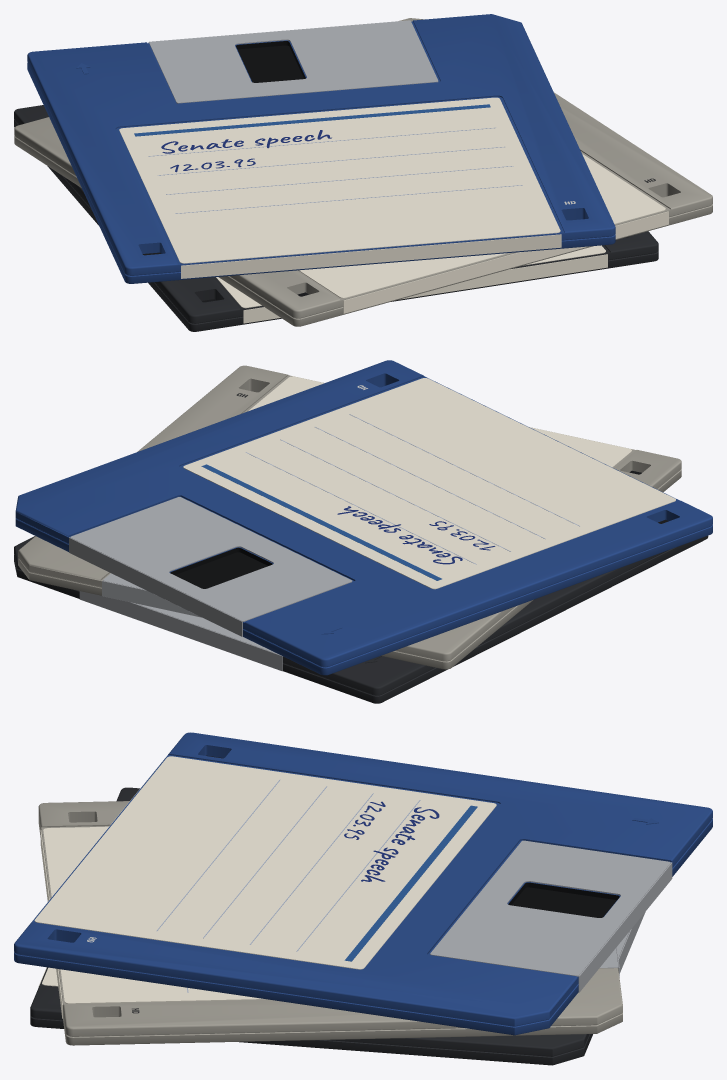
3 renders of one model, top to bottom at view 1: azimuth 30°, elevation 25°; view 2: azimuth 150°, elevation 25°; view 3: azimuth 270°, elevation 25°, orthographic. The views are drawn at different scales.
Visible parts, largest first — view 1: gear_floppies; view 2: gear_floppies; view 3: gear_floppies.
Boxes of the visible parts, bbox=[...] form: gear_floppies: bbox=[14, 14, 712, 331]; gear_floppies: bbox=[14, 360, 712, 703]; gear_floppies: bbox=[14, 732, 712, 1065].
Bounding box in the file's own units: 0.1139 × 0.0103 × 0.1175.
